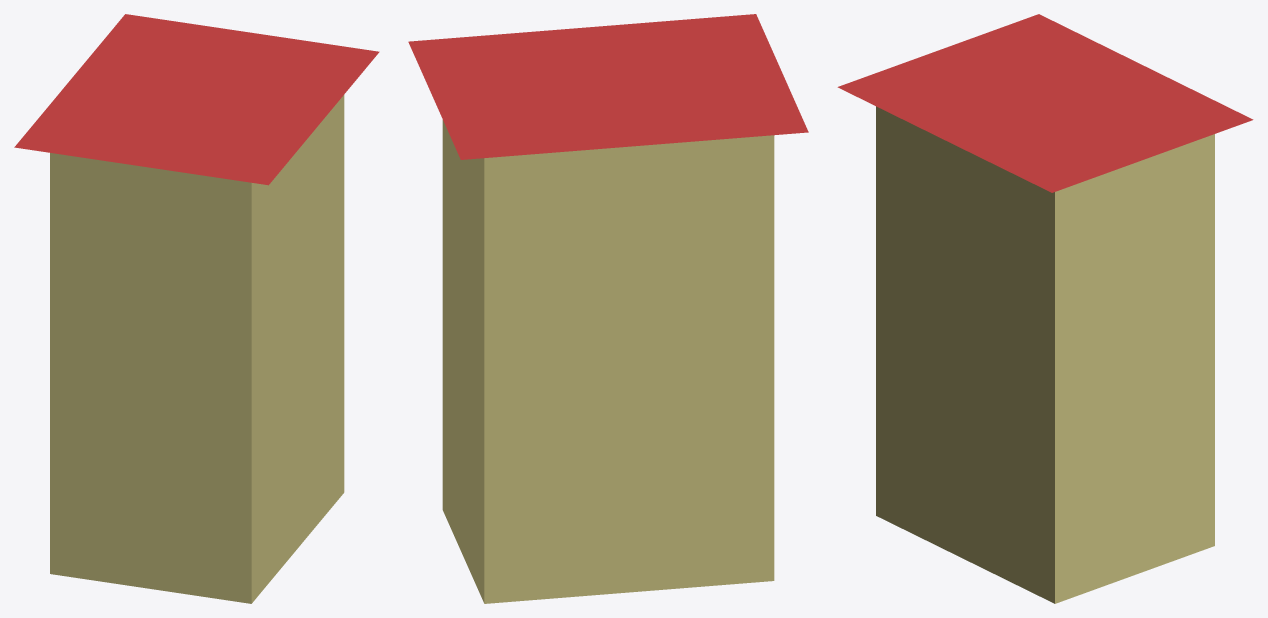
The picture shows the model from 3 angles, left to right: view 1: azimuth 30°, elevation 25°; view 2: azimuth 150°, elevation 25°; view 3: azimuth 270°, elevation 25°; orthographic projection. The views are drawn at different scales.
Bounding box in the file's own units: 7.69 × 7.56 × 8.56.
